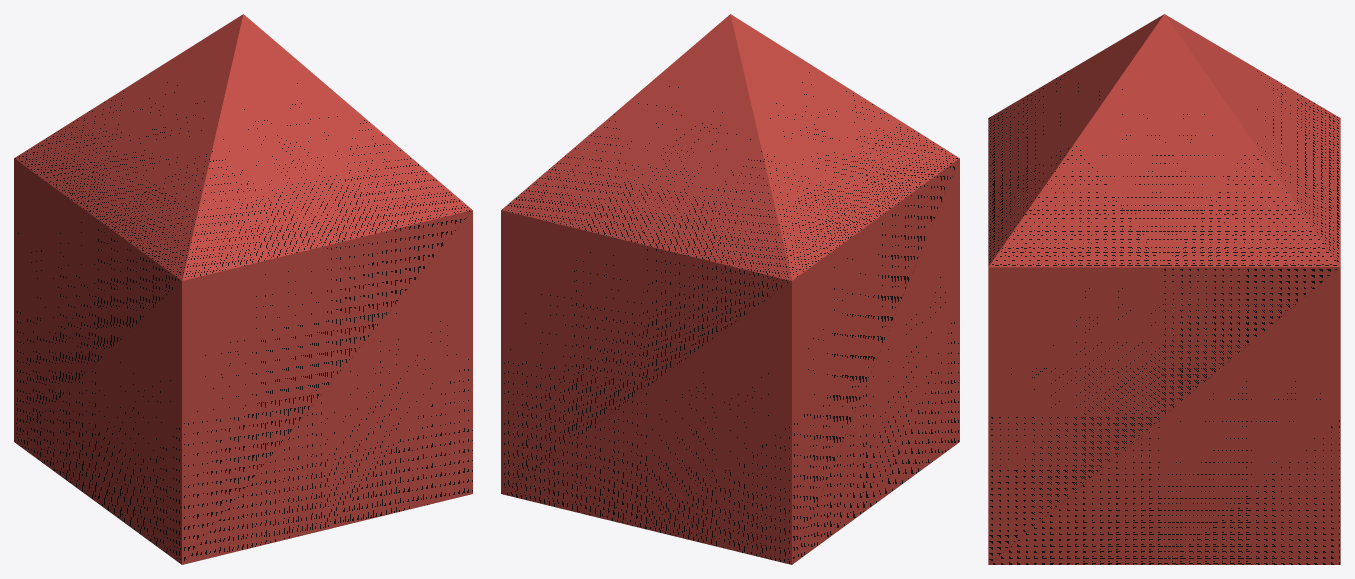
File: DL_Obj_Level5_AltarCrystalSquare.fbx
3 views of the same model, side by side, from view 1: azimuth 30°, elevation 25°; view 2: azimuth 150°, elevation 25°; view 3: azimuth 270°, elevation 25° (orthographic). The views are drawn at different scales.
Parts seen in each view (by area): view 1: Level5_AltarCrystalSquare; view 2: Level5_AltarCrystalSquare; view 3: Level5_AltarCrystalSquare.
Boxes of the visible parts, bbox=[...] form: Level5_AltarCrystalSquare: bbox=[14, 14, 472, 564]; Level5_AltarCrystalSquare: bbox=[501, 14, 959, 564]; Level5_AltarCrystalSquare: bbox=[988, 14, 1340, 564].
Bounding box in the file's own units: 53.63 × 80 × 53.63.
